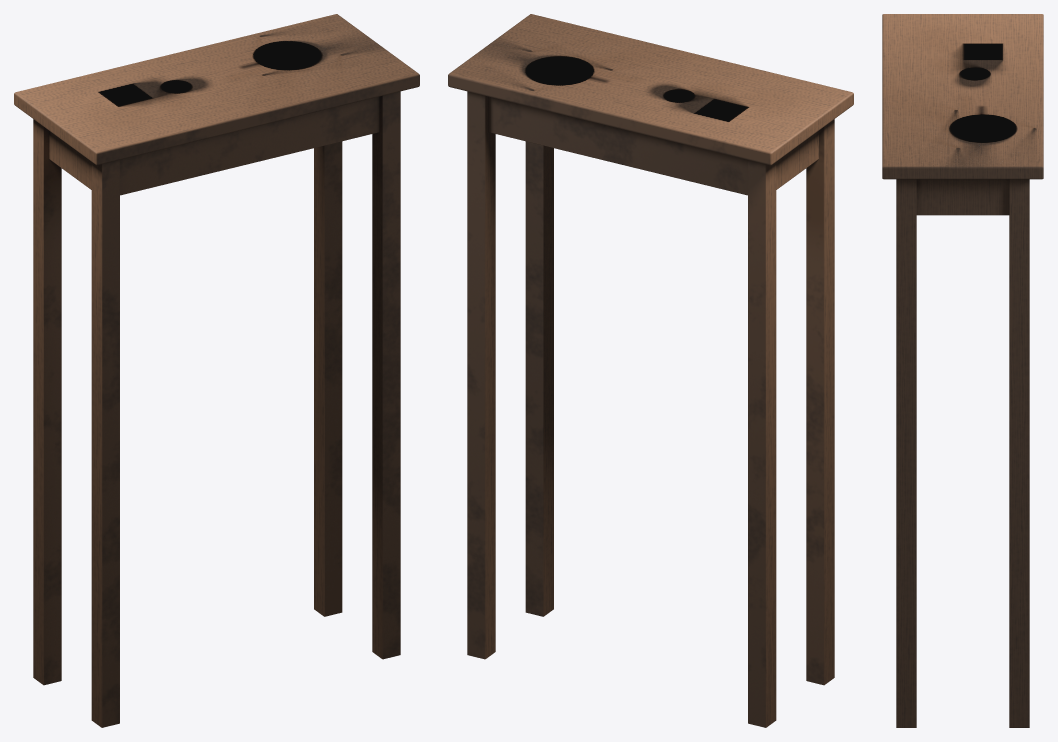
File: 510_hook.glb
3 renders of one model, left to right at view 1: azimuth 30°, elevation 25°; view 2: azimuth 150°, elevation 25°; view 3: azimuth 270°, elevation 25°, orthographic. The views are drawn at different scales.
Visible parts, largest first — view 1: Table; view 2: Table; view 3: Table.
Boxes of the visible parts, <box> form: Table: <box>14,14,419,727</box>; Table: <box>448,14,853,727</box>; Table: <box>882,14,1043,727</box>.
Size of what is drawn, in the model's own units: 1.8 by 3.1 by 0.8.
Materials: 1 (1 with a texture image).
